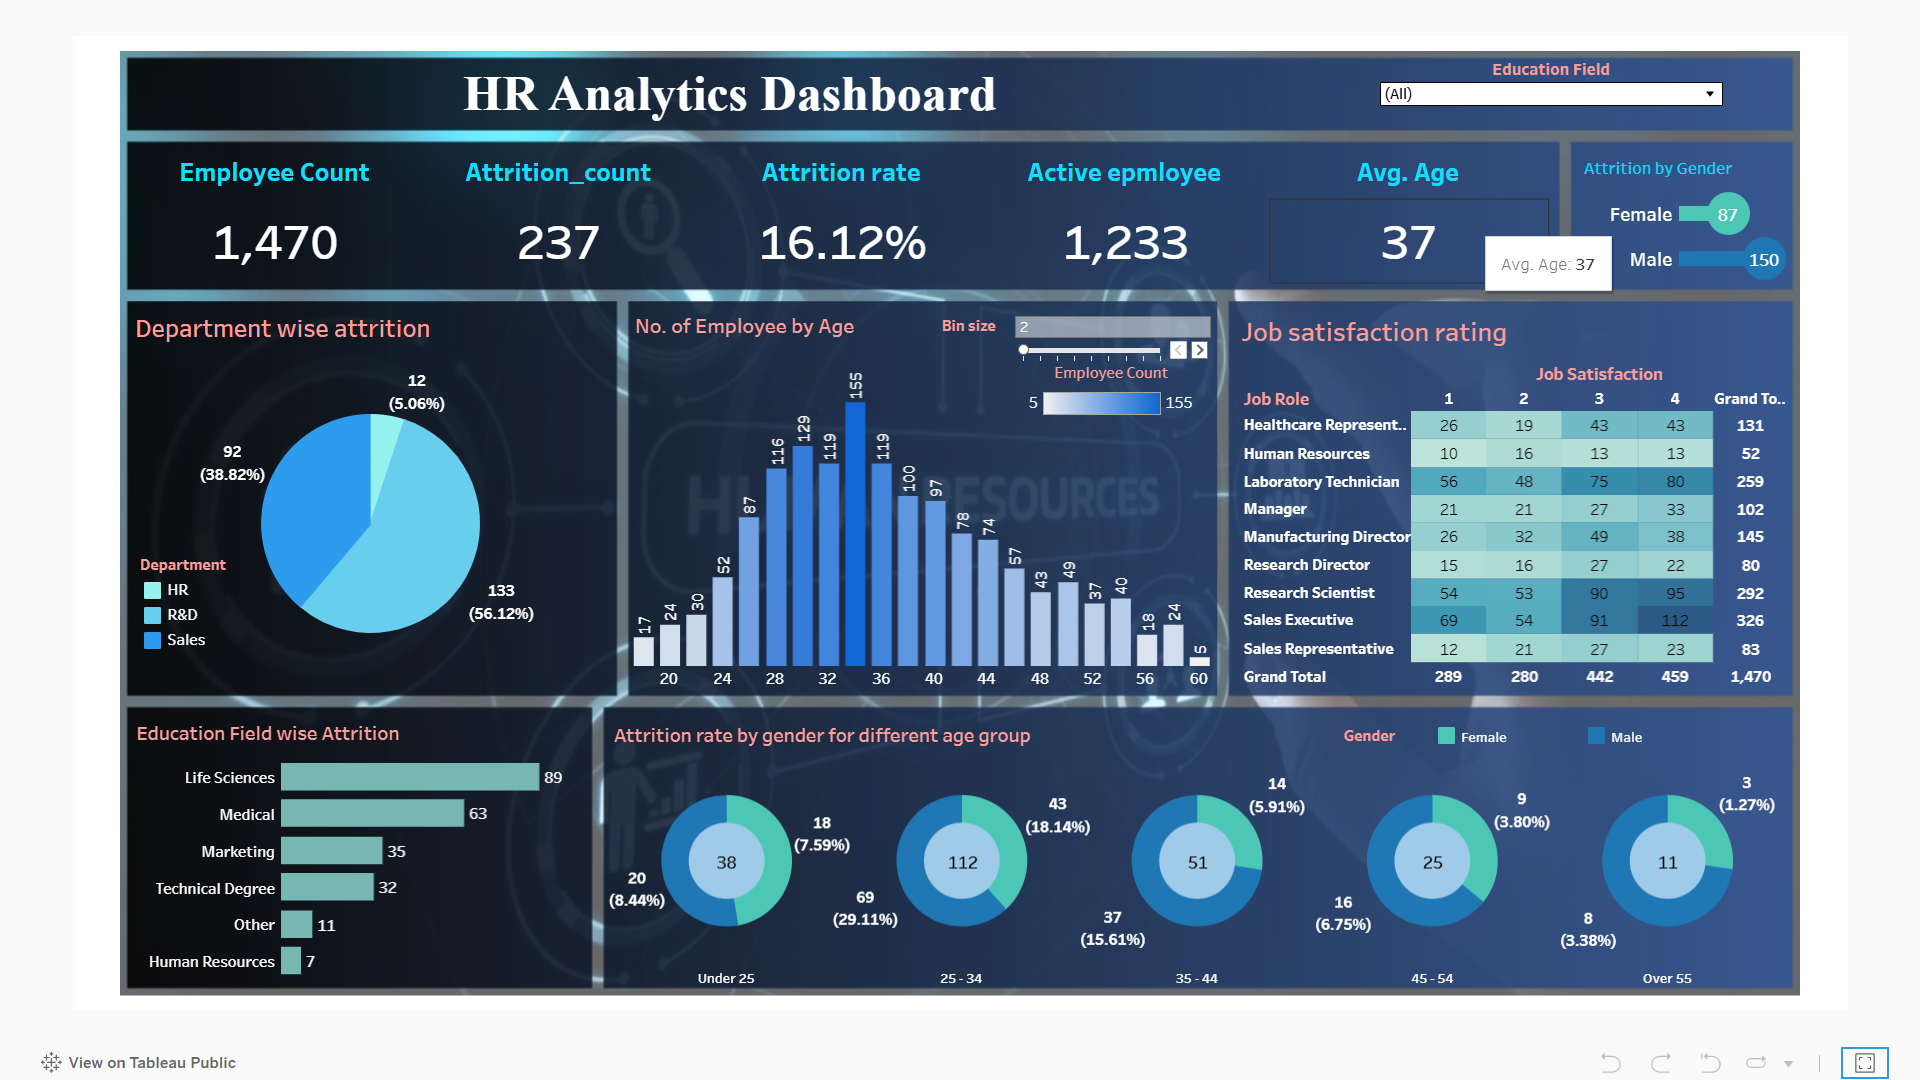

The page's visual inventory and layout, read from the dashboard file:
{"tool":"tableau","page":{"name":"HR analytics dashboard","canvas":[1420,780],"ordinal":0},"visuals":[{"type":"image","param":"Image/HR background.pptx.png","box":[8,8,1404,764]},{"type":"filter","title":"Education feild wise attrition","param":"[federated.1n1ht4v1evvzxu12m1mgd180jy2d].[none:Education Field:nk]","box":[1045,17,276,56]},{"type":"text","box":[45,19,962,53]},{"type":"worksheet","title":"KPIs","mark":"Automatic","box":[48,88,1134,111]},{"type":"worksheet","title":"Attrition by gender","mark":"Automatic","rows":["Gender"],"cols":["Calculation_1484217556269592576","Calculation_1484217556269592576"],"box":[1205,90,169,106]},{"type":"worksheet","title":"Department wise attrition","mark":"Pie","box":[46,214,385,310]},{"type":"worksheet","title":"no. of epmloyee by age ","mark":"Automatic","rows":["Employee Count"],"cols":["Age (bin)"],"box":[446,214,467,312]},{"type":"worksheet","title":"Job satisfaction rating","mark":"Square","rows":["Job Role"],"cols":["Job Satisfaction"],"box":[931,217,441,306]},{"type":"parameter","param":"[Parameters].[Parameter 1]","box":[681,223,231,41]},{"type":"legend","title":"no. of epmloyee by age ","param":"[federated.1n1ht4v1evvzxu12m1mgd180jy2d].[sum:Employee Count:qk]","box":[761,261,140,65]},{"type":"legend","title":"Department wise attrition","param":"[federated.1n1ht4v1evvzxu12m1mgd180jy2d].[none:Department:nk]","box":[54,415,122,101]},{"type":"worksheet","title":"Education feild wise attrition","mark":"Automatic","rows":["Education Field"],"cols":["Calculation_1484217556269592576"],"box":[47,541,361,214]},{"type":"worksheet","title":"Attrition rate by gender for different age group","mark":"Pie","rows":["Calculation_1484217556362514441","Calculation_1484217556362514441"],"cols":["CF_age band"],"box":[429,542,941,219]},{"type":"legend","title":"Attrition rate by gender for different age group","param":"[federated.1n1ht4v1evvzxu12m1mgd180jy2d].[none:Gender:nk]","box":[1017,550,355,34]}]}

Visuals, with their boxes on the page's 1420x780 design canvas (x1, y1, x2, y2). These are canvas units, not pixel positions in the 1920x1080 screenshot, which may show the page scaled, cropped or inside an application window:
image: bbox=(8, 8, 1412, 772)
"Education feild wise attrition" filter: bbox=(1045, 17, 1321, 73)
text: bbox=(45, 19, 1007, 72)
"KPIs" worksheet: bbox=(48, 88, 1182, 199)
"Attrition by gender" worksheet: bbox=(1205, 90, 1374, 196)
"Department wise attrition" worksheet (Pie marks): bbox=(46, 214, 431, 524)
"no. of epmloyee by age " worksheet: bbox=(446, 214, 913, 526)
"Job satisfaction rating" worksheet (Square marks): bbox=(931, 217, 1372, 523)
parameter: bbox=(681, 223, 912, 264)
"no. of epmloyee by age " legend: bbox=(761, 261, 901, 326)
"Department wise attrition" legend: bbox=(54, 415, 176, 516)
"Education feild wise attrition" worksheet: bbox=(47, 541, 408, 755)
"Attrition rate by gender for different age group" worksheet (Pie marks): bbox=(429, 542, 1370, 761)
"Attrition rate by gender for different age group" legend: bbox=(1017, 550, 1372, 584)
